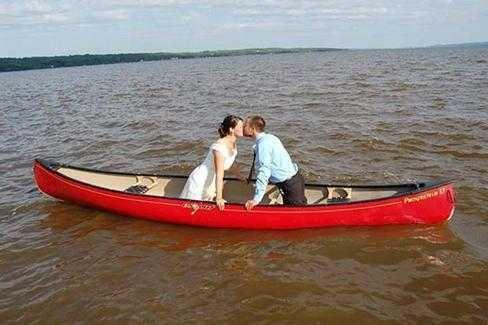kayak: (34, 163, 461, 234)
